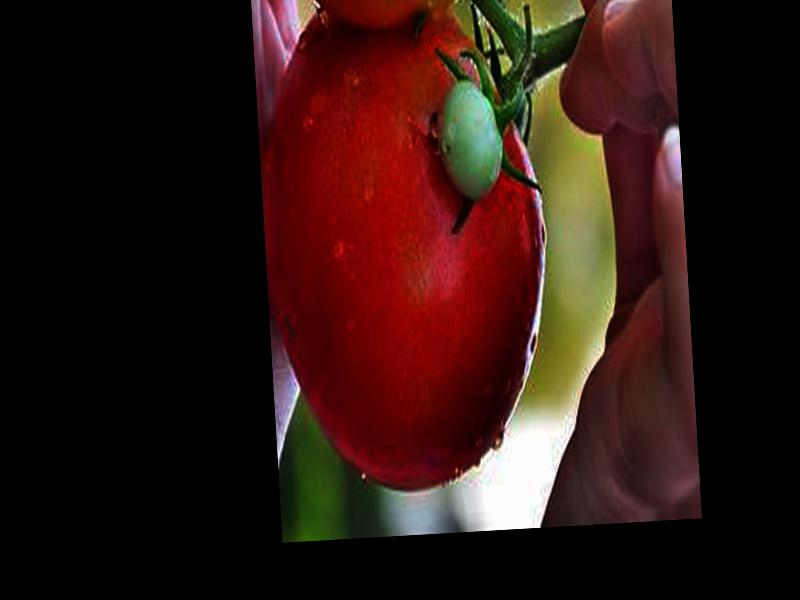Tomato: (251, 1, 559, 496)
